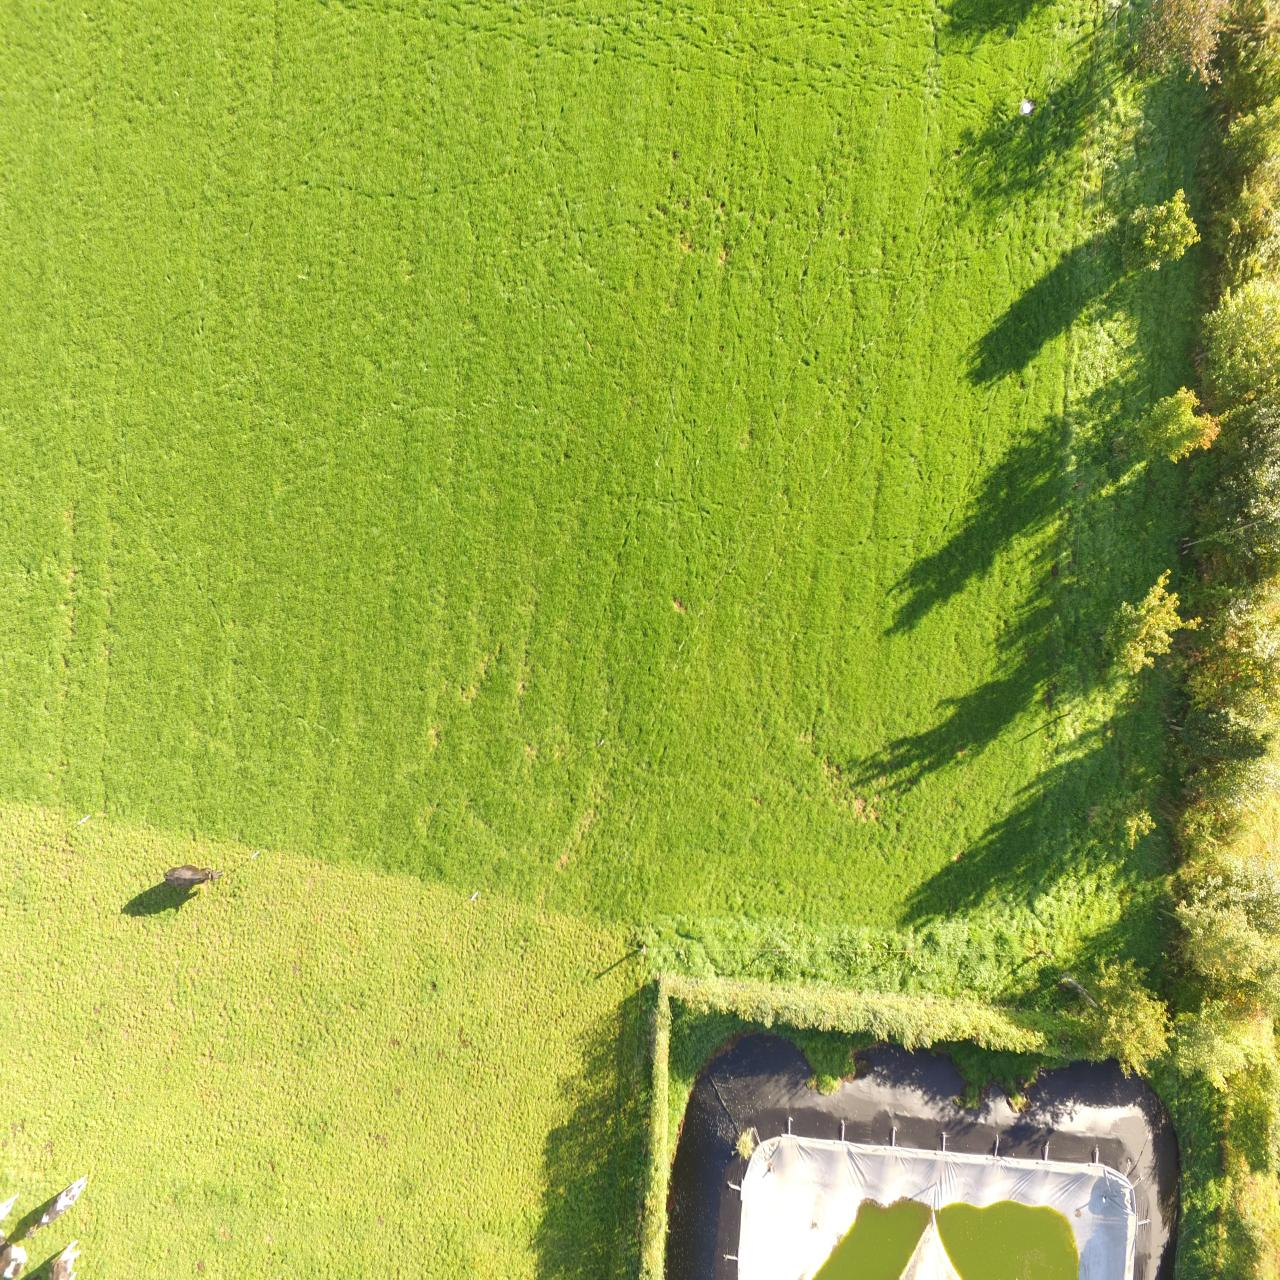cow: (25, 1173, 95, 1239), (162, 862, 226, 891)
